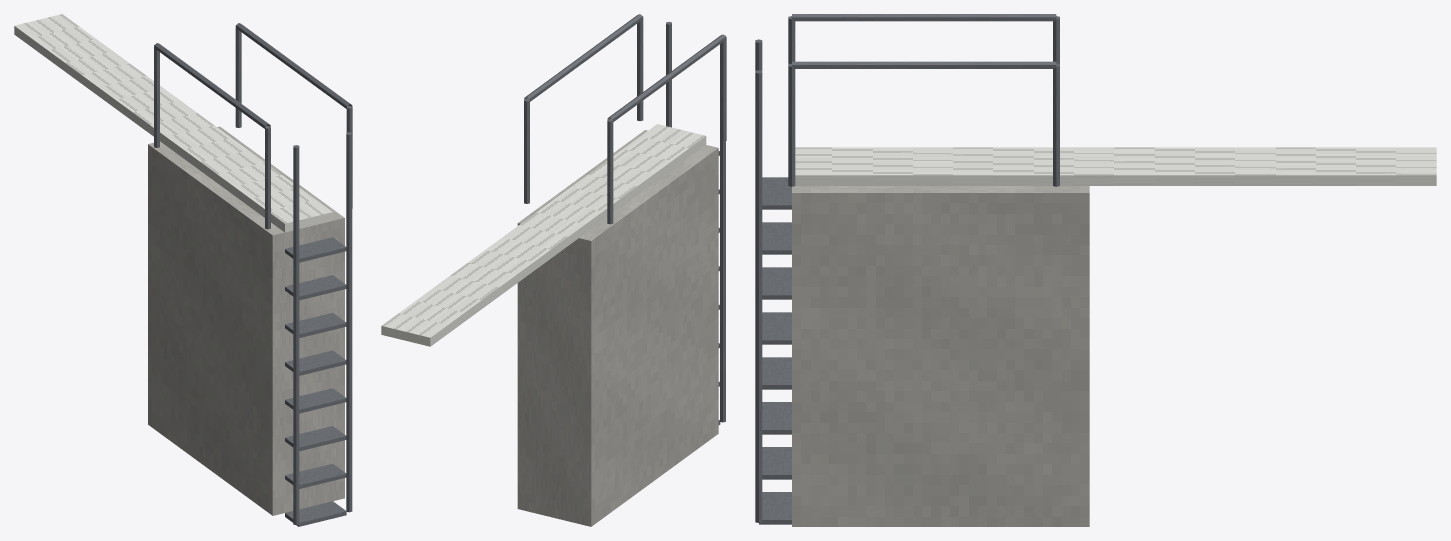
File: springboard_3m.obj
3 renders of one model, left to right at view 1: azimuth 30°, elevation 25°; view 2: azimuth 150°, elevation 25°; view 3: azimuth 270°, elevation 25°, orthographic. The views are drawn at different scales.
Visible parts, largest first — view 1: springboard_3m; view 2: springboard_3m; view 3: springboard_3m.
Part boxes in pixels (x1,y1,x2,y2): springboard_3m: (14,14,352,526); springboard_3m: (381,14,726,526); springboard_3m: (755,14,1436,526).
Bounding box in the file's own units: 0.9125 × 3.94 × 5.15.
